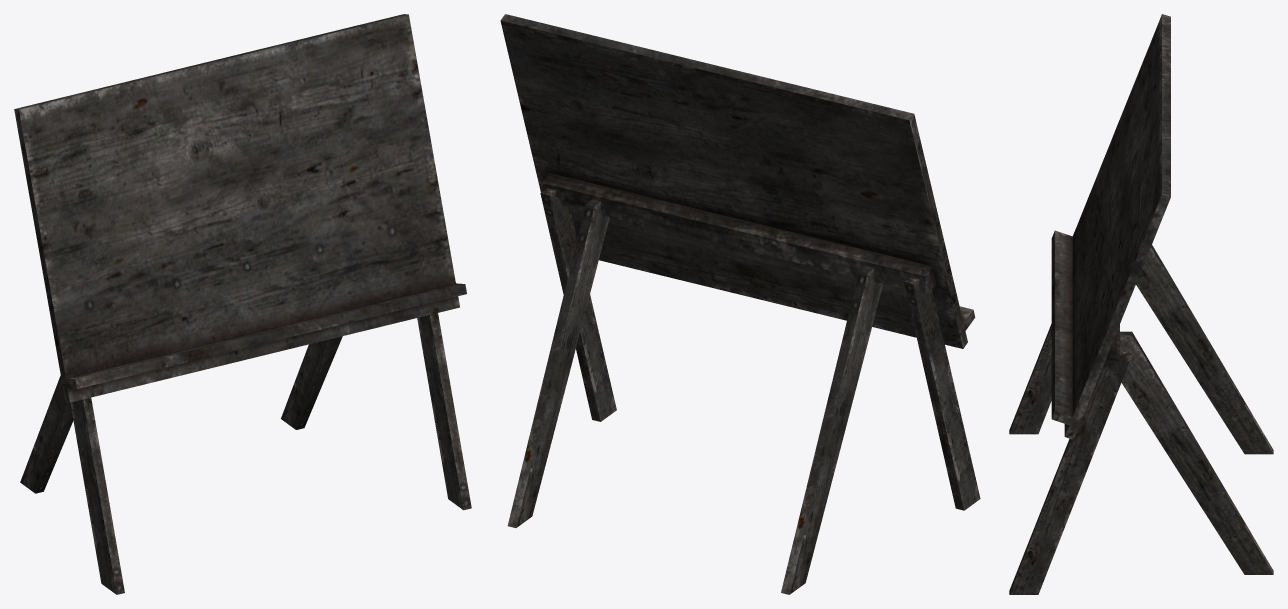
Rendered from layout_board.dae.
3 renders of one model, left to right at view 1: azimuth 30°, elevation 25°; view 2: azimuth 150°, elevation 25°; view 3: azimuth 270°, elevation 25°, orthographic. The views are drawn at different scales.
Parts seen in each view (by area): view 1: Cube_005; view 2: Cube_005; view 3: Cube_005.
Part boxes in pixels (<box>): Cube_005: <box>14,14,471,594</box>; Cube_005: <box>500,14,980,594</box>; Cube_005: <box>1009,14,1273,594</box>.
Size of the model in its own units: 2.25 by 1.39 by 2.37.
